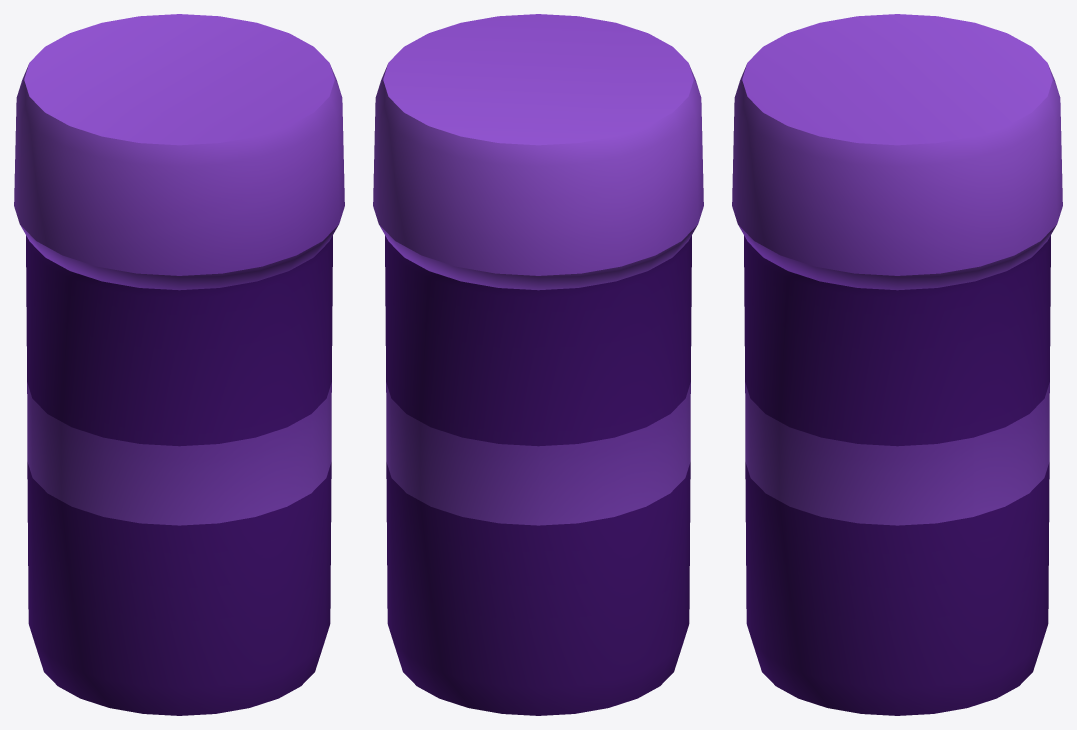
Rendered from Kitchen Pot_1.glb.
The picture shows the model from 3 angles, left to right: view 1: azimuth 30°, elevation 25°; view 2: azimuth 150°, elevation 25°; view 3: azimuth 270°, elevation 25°; orthographic projection.
Visible parts, largest first — view 1: Kitchen Pot_1, Kitchen Pot_1 Top; view 2: Kitchen Pot_1, Kitchen Pot_1 Top; view 3: Kitchen Pot_1, Kitchen Pot_1 Top.
Part boxes in pixels (x1=…): Kitchen Pot_1: x1=26, y1=235, x2=332, y2=715; Kitchen Pot_1 Top: x1=14, y1=14, x2=344, y2=290; Kitchen Pot_1: x1=385, y1=235, x2=691, y2=715; Kitchen Pot_1 Top: x1=373, y1=14, x2=703, y2=290; Kitchen Pot_1: x1=744, y1=235, x2=1050, y2=715; Kitchen Pot_1 Top: x1=732, y1=14, x2=1062, y2=290.
Bounding box in the file's own units: 0.0742 × 0.1429 × 0.0742.
1 material, 1 textured.
